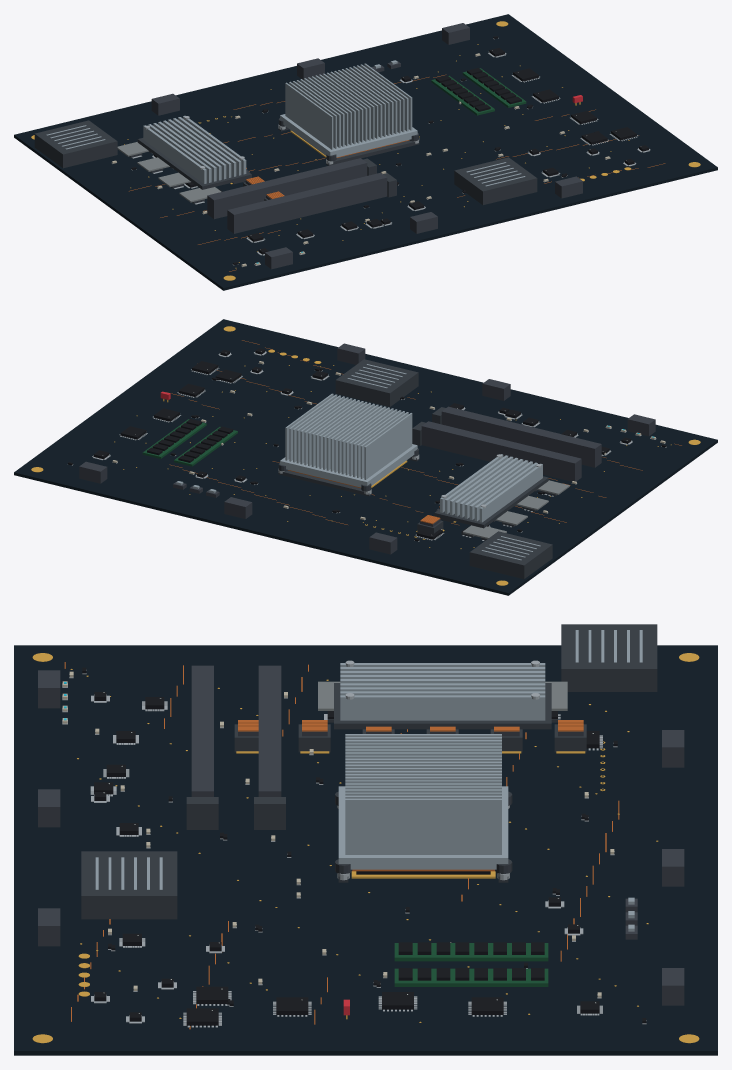
File: ProjectSpark_Level109_TRX17_Complete_Assembled_Board.fbx
3 views of the same model, one above another, from view 1: azimuth 30°, elevation 25°; view 2: azimuth 150°, elevation 25°; view 3: azimuth 270°, elevation 25° (orthographic). The views are drawn at different scales.
Visible parts, largest first — view 1: L109_TRX17_Complete_Assembled_Motherboard_PCB, L109_TRX17_Complete_Assembled_Motherboard_ALUMINUM, L109_TRX17_Complete_Assembled_Motherboard_POLYMER, L109_TRX17_Complete_Assembled_Motherboard_DARK_METAL, L109_TRX17_Complete_Assembled_Motherboard_EPOXY, L109_TRX17_Complete_Assembled_Motherboard_PAD, L109_TRX17_Complete_Assembled_Motherboard_SOLDER, L109_TRX17_Complete_Assembled_Motherboard_GREEN, L109_TRX17_Complete_Assembled_Motherboard_COPPER, L109_TRX17_Complete_Assembled_Motherboard_GOLD; view 2: L109_TRX17_Complete_Assembled_Motherboard_PCB, L109_TRX17_Complete_Assembled_Motherboard_ALUMINUM, L109_TRX17_Complete_Assembled_Motherboard_POLYMER, L109_TRX17_Complete_Assembled_Motherboard_DARK_METAL, L109_TRX17_Complete_Assembled_Motherboard_EPOXY, L109_TRX17_Complete_Assembled_Motherboard_PAD, L109_TRX17_Complete_Assembled_Motherboard_SOLDER, L109_TRX17_Complete_Assembled_Motherboard_GREEN, L109_TRX17_Complete_Assembled_Motherboard_COPPER, L109_TRX17_Complete_Assembled_Motherboard_GOLD; view 3: L109_TRX17_Complete_Assembled_Motherboard_PCB, L109_TRX17_Complete_Assembled_Motherboard_ALUMINUM, L109_TRX17_Complete_Assembled_Motherboard_DARK_METAL, L109_TRX17_Complete_Assembled_Motherboard_POLYMER, L109_TRX17_Complete_Assembled_Motherboard_EPOXY, L109_TRX17_Complete_Assembled_Motherboard_GREEN, L109_TRX17_Complete_Assembled_Motherboard_SOLDER, L109_TRX17_Complete_Assembled_Motherboard_COPPER, L109_TRX17_Complete_Assembled_Motherboard_GOLD, L109_TRX17_Complete_Assembled_Motherboard_PAD, L109_TRX17_Complete_Assembled_Motherboard_CERAMIC.
Part boxes in pixels (x1,y1,x2,y2): L109_TRX17_Complete_Assembled_Motherboard_PCB: (14,14,717,290); L109_TRX17_Complete_Assembled_Motherboard_ALUMINUM: (46,60,525,186); L109_TRX17_Complete_Assembled_Motherboard_POLYMER: (151,23,582,269); L109_TRX17_Complete_Assembled_Motherboard_DARK_METAL: (34,118,537,204); L109_TRX17_Complete_Assembled_Motherboard_EPOXY: (131,36,648,264); L109_TRX17_Complete_Assembled_Motherboard_PAD: (117,142,221,202); L109_TRX17_Complete_Assembled_Motherboard_SOLDER: (111,38,650,267); L109_TRX17_Complete_Assembled_Motherboard_GREEN: (431,68,526,115); L109_TRX17_Complete_Assembled_Motherboard_COPPER: (128,74,665,271); L109_TRX17_Complete_Assembled_Motherboard_GOLD: (31,21,700,280); L109_TRX17_Complete_Assembled_Motherboard_PCB: (14,319,717,595); L109_TRX17_Complete_Assembled_Motherboard_ALUMINUM: (176,364,542,560); L109_TRX17_Complete_Assembled_Motherboard_POLYMER: (79,343,655,554); L109_TRX17_Complete_Assembled_Motherboard_DARK_METAL: (278,359,556,578); L109_TRX17_Complete_Assembled_Motherboard_EPOXY: (68,348,666,541); L109_TRX17_Complete_Assembled_Motherboard_PAD: (462,480,569,538); L109_TRX17_Complete_Assembled_Motherboard_SOLDER: (67,351,666,541); L109_TRX17_Complete_Assembled_Motherboard_GREEN: (142,419,237,466); L109_TRX17_Complete_Assembled_Motherboard_COPPER: (168,340,681,525); L109_TRX17_Complete_Assembled_Motherboard_GOLD: (31,326,700,585); L109_TRX17_Complete_Assembled_Motherboard_PCB: (14,645,717,1055); L109_TRX17_Complete_Assembled_Motherboard_ALUMINUM: (95,630,642,931); L109_TRX17_Complete_Assembled_Motherboard_DARK_METAL: (81,624,657,919); L109_TRX17_Complete_Assembled_Motherboard_POLYMER: (38,665,684,1005); L109_TRX17_Complete_Assembled_Motherboard_EPOXY: (82,667,646,1025); L109_TRX17_Complete_Assembled_Motherboard_GREEN: (394,943,548,986); L109_TRX17_Complete_Assembled_Motherboard_SOLDER: (62,660,646,1027); L109_TRX17_Complete_Assembled_Motherboard_COPPER: (64,662,619,1029); L109_TRX17_Complete_Assembled_Motherboard_GOLD: (32,653,699,1043); L109_TRX17_Complete_Assembled_Motherboard_PAD: (318,681,567,710); L109_TRX17_Complete_Assembled_Motherboard_CERAMIC: (62,671,614,997).
Size of the model in its own units: 300 by 220 by 29.6.
